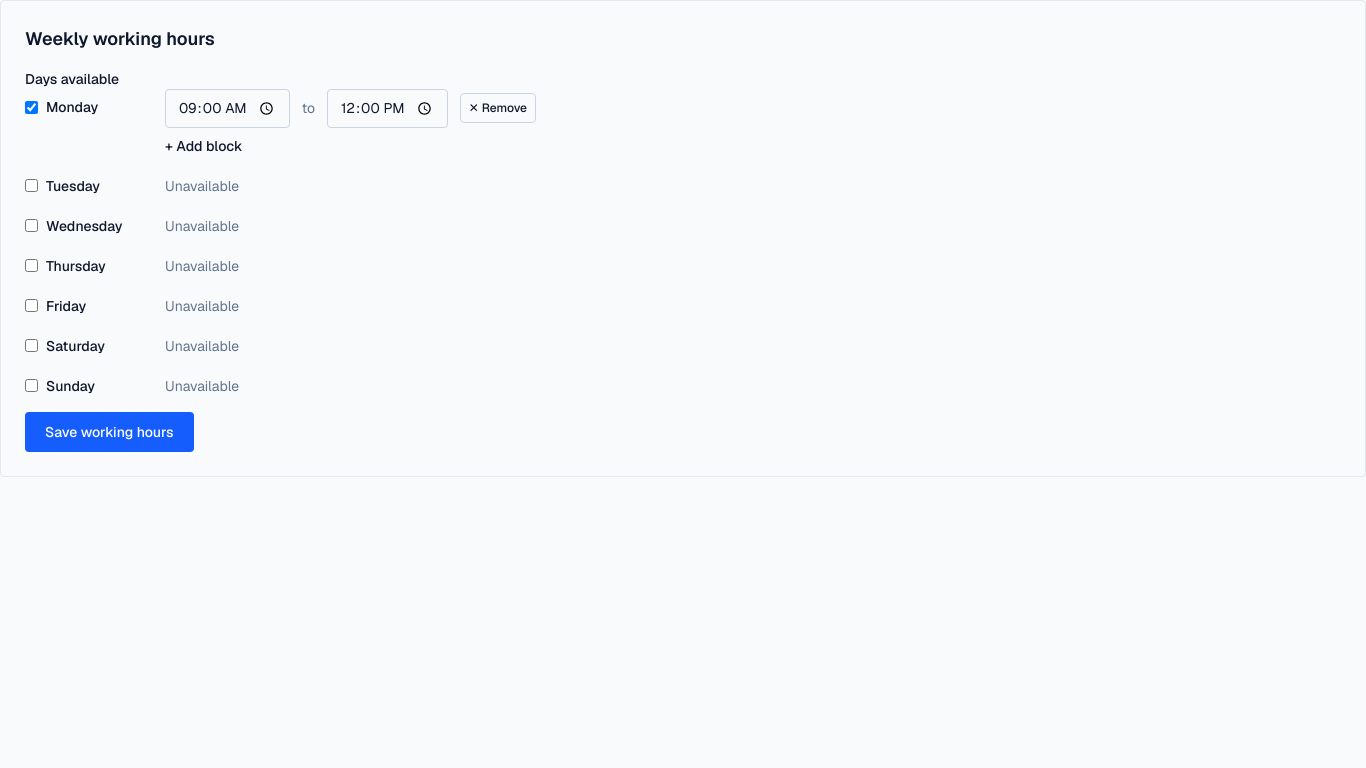
Scenario: WorkingHoursSection › rejects blocks less than one hour apart with the interpolated gap message, and does not save
The image size is (1366, 768).
Click the button with aria-label "add block to monday" at (204, 146), box [165, 136, 243, 156]
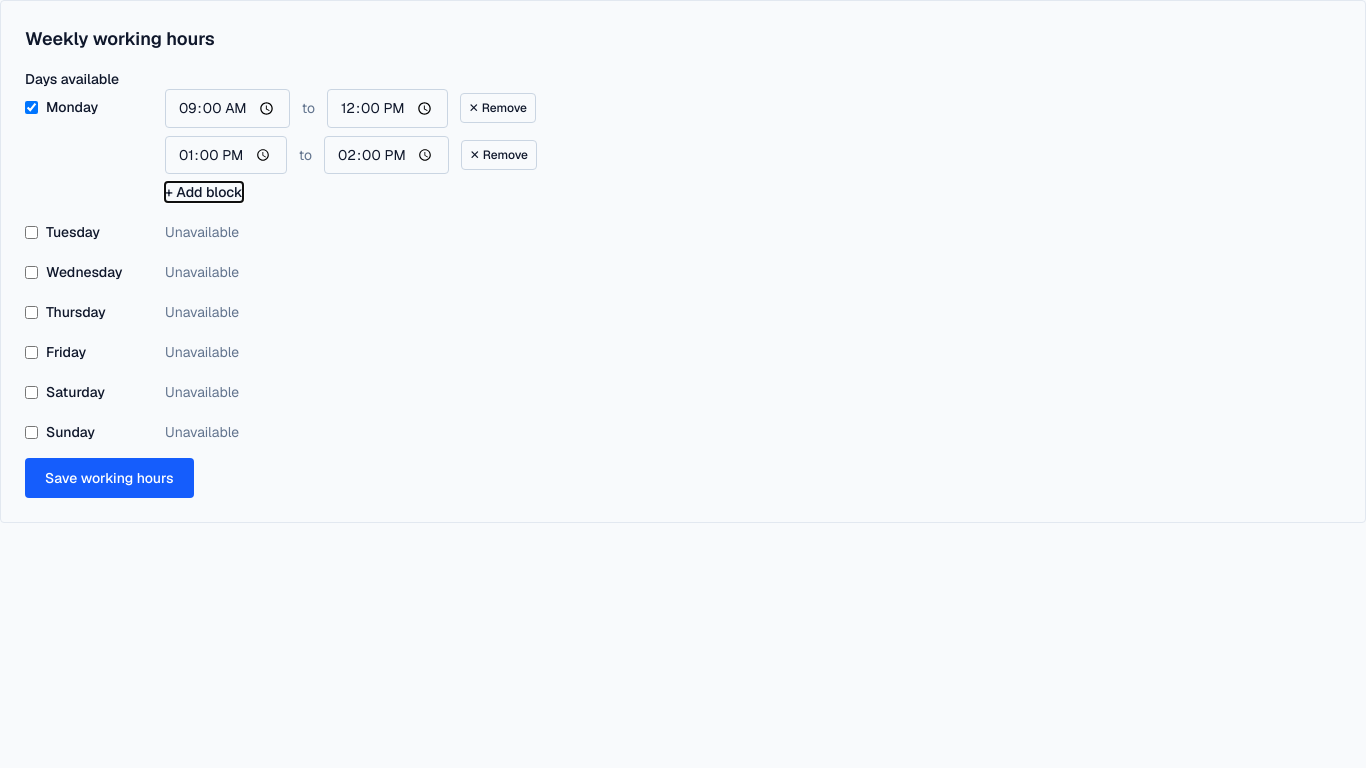
Replace the text in the 3rd time field named "Monday block 2 start time" with "12:30" at (226, 155), box [165, 136, 287, 174]
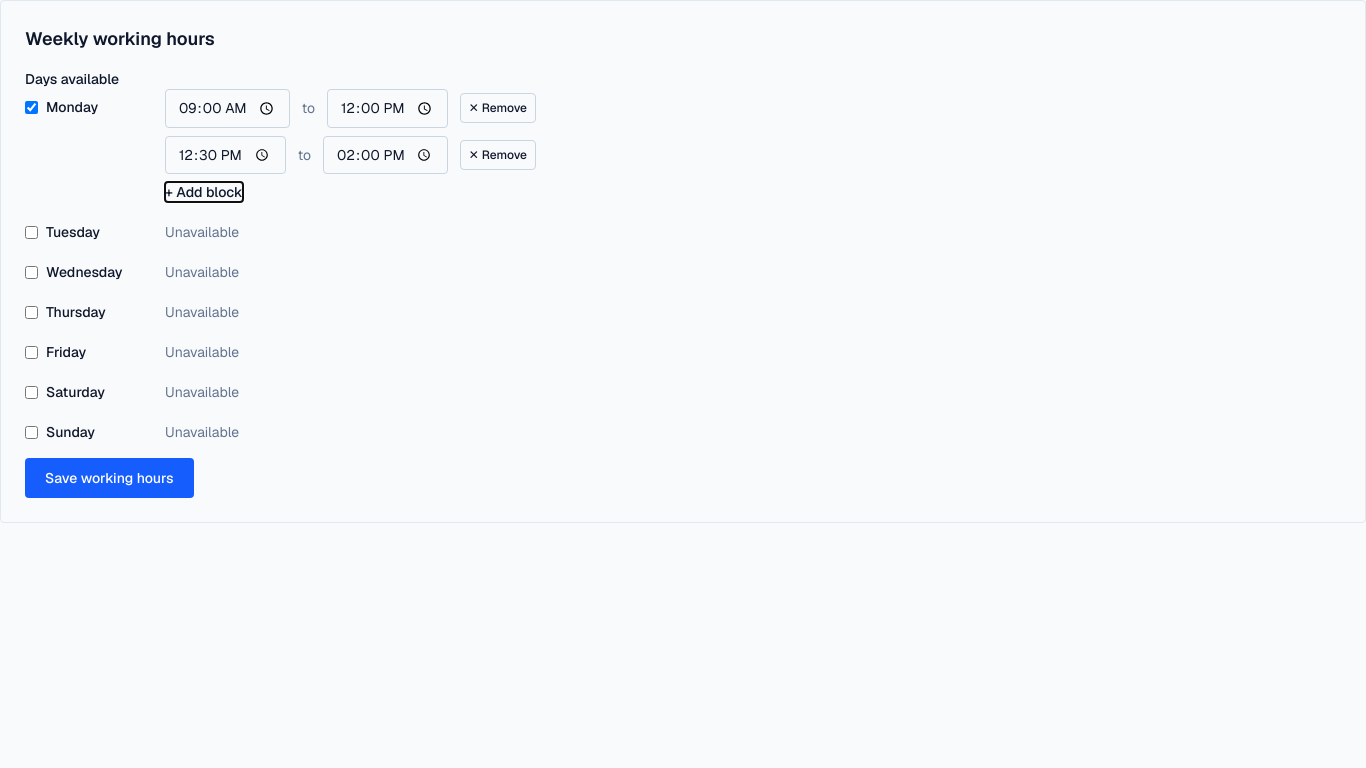
Replace the text in the 4th time field named "Monday block 2 end time" with "17:00" at (385, 155), box [323, 136, 448, 174]
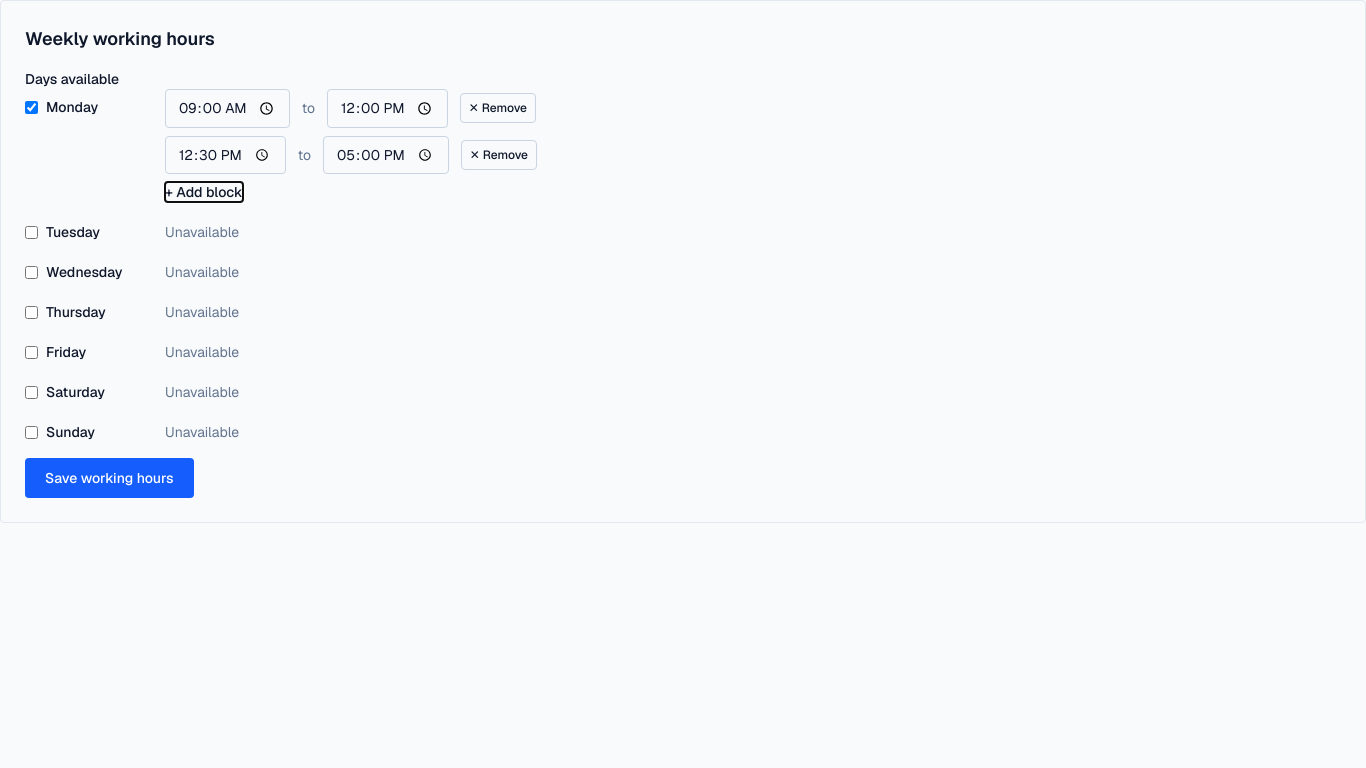
Click the button "Save working hours" at (109, 478), box [25, 458, 194, 498]
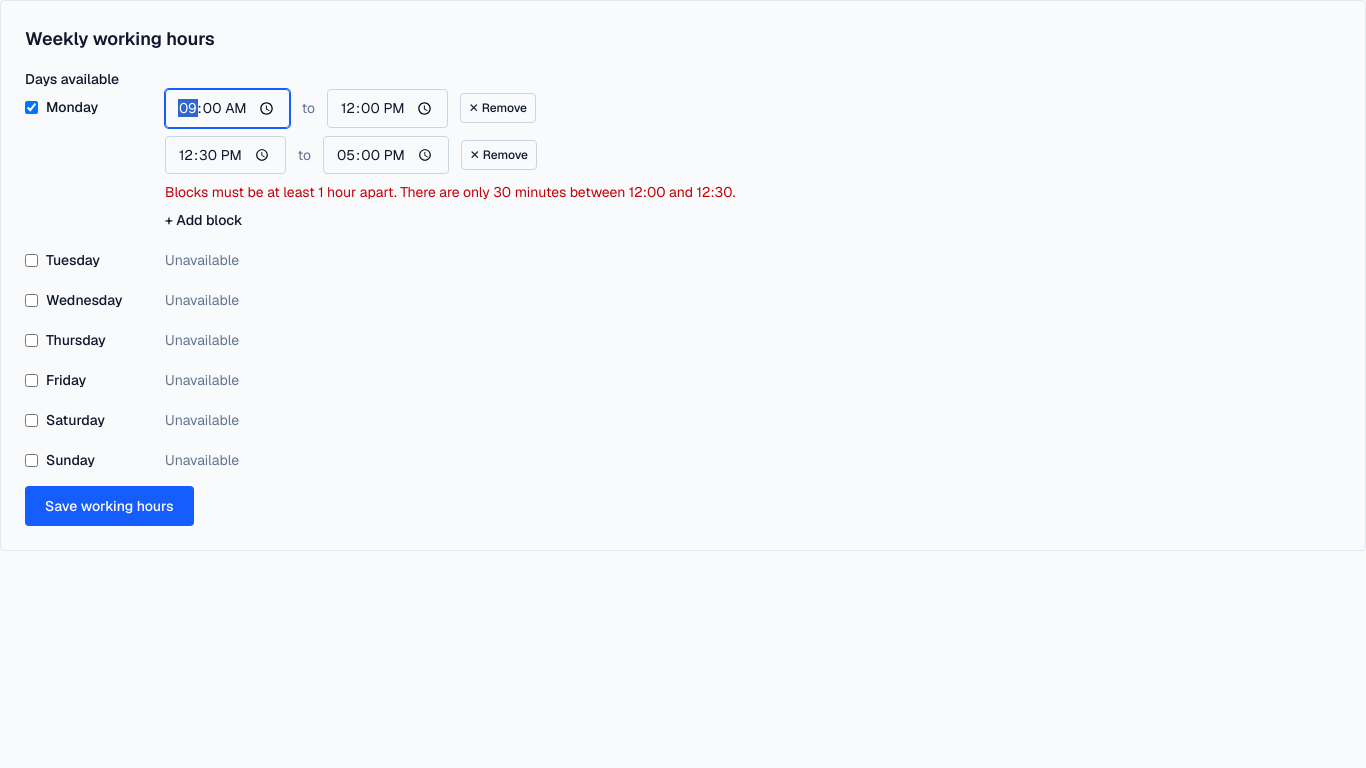
Now the text "Blocks must be at least 1 hour apart. There are only 30 minutes between 12:00 and 12:30." is shown, box [165, 183, 735, 201]
